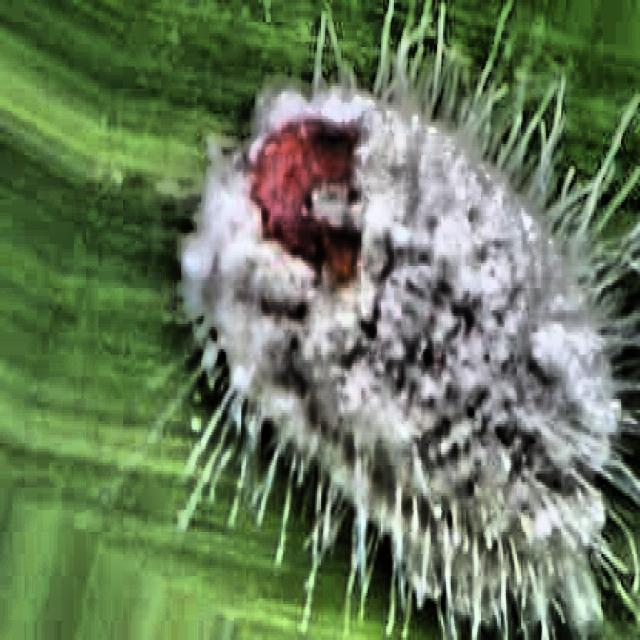Mealy-bug: (157, 0, 640, 640)
